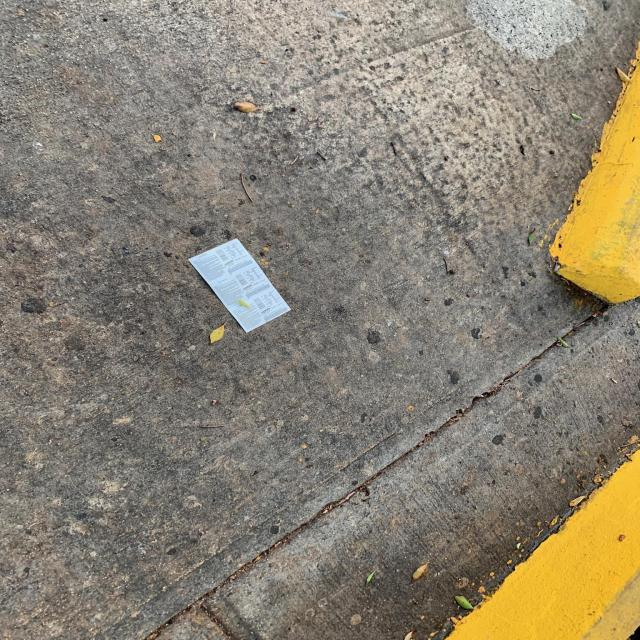litter: (186, 236, 292, 334)
